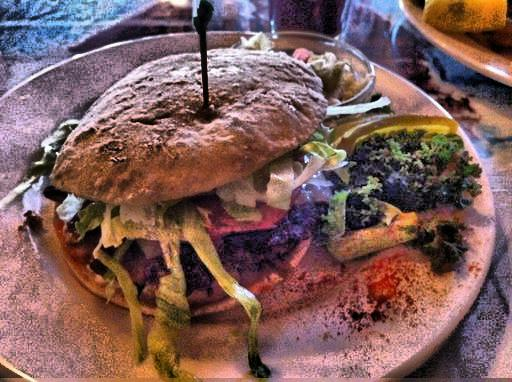burger: (60, 42, 327, 308)
